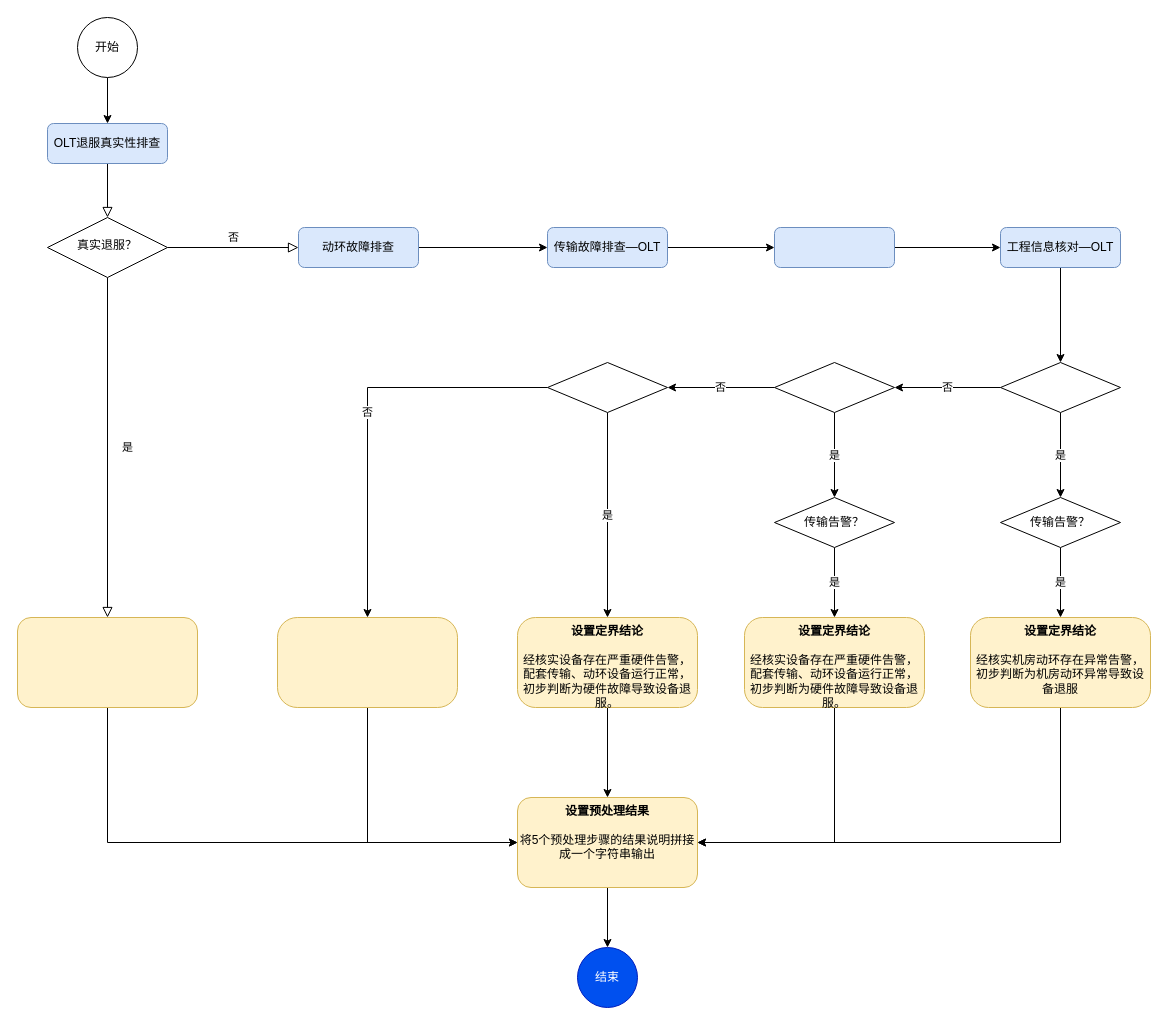
The diagram is 1168 pixels wide and 1025 high, and some of its shapes have lost their labels. The shapes that lost their labels are listed below. From the top down, each one's centre as x and y in pixels, then its label:
At point 834,247: "设备自身故障排查".
At point 607,387: "存在工程？".
At point 834,387: "设备自身告警？".
At point 1060,387: "动环告警？".
At point 107,662: "设置定界结论 网管至设备通信中断，设备运行正常".
At point 367,662: "设置定界结论 各省可结合自身组网结构情况，根据预处理逻辑和定界逻辑，输出多个可能的故障原因。".
